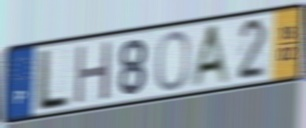2: (235, 16, 269, 83)
8: (118, 37, 148, 96)
A: (188, 21, 234, 89)
H: (73, 38, 114, 108)
L: (33, 46, 73, 115)
O: (154, 29, 192, 93)
